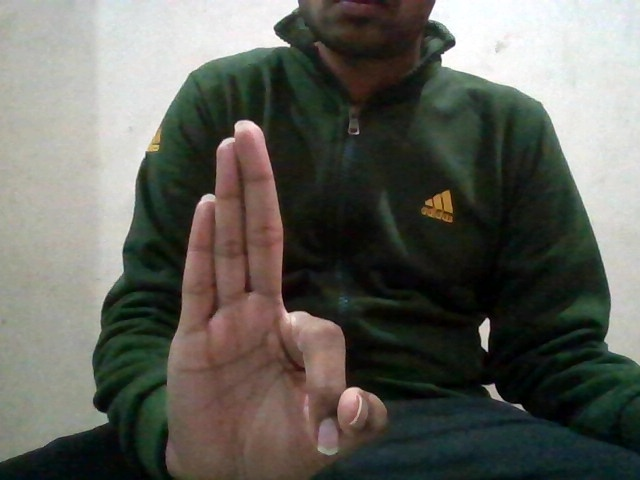F: (162, 113, 391, 480)
